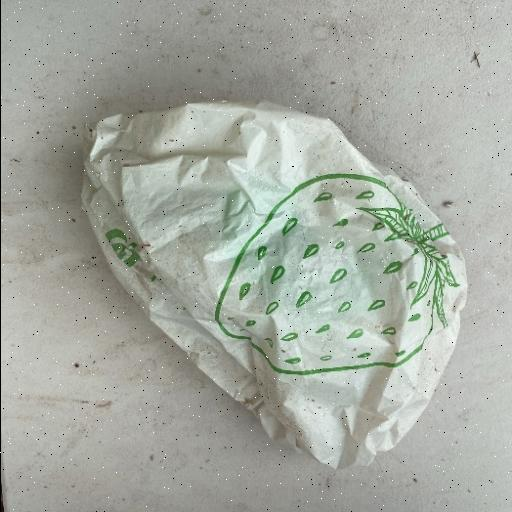Plastic: (80, 98, 468, 470)
